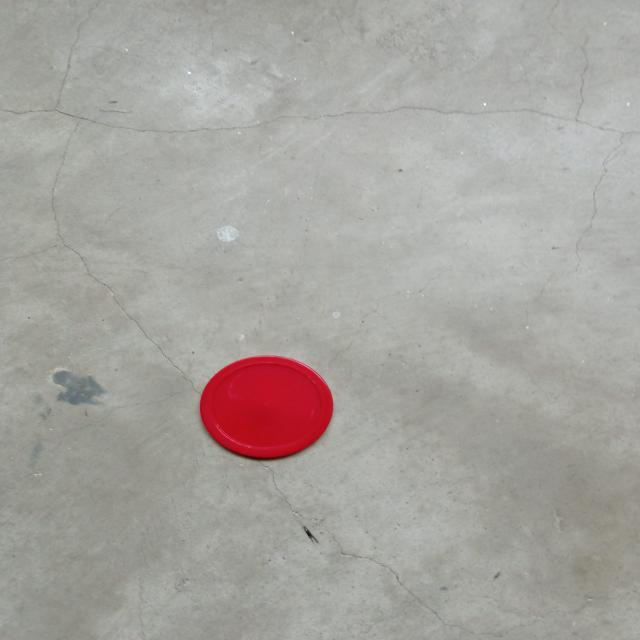chip: (194, 349, 340, 462)
